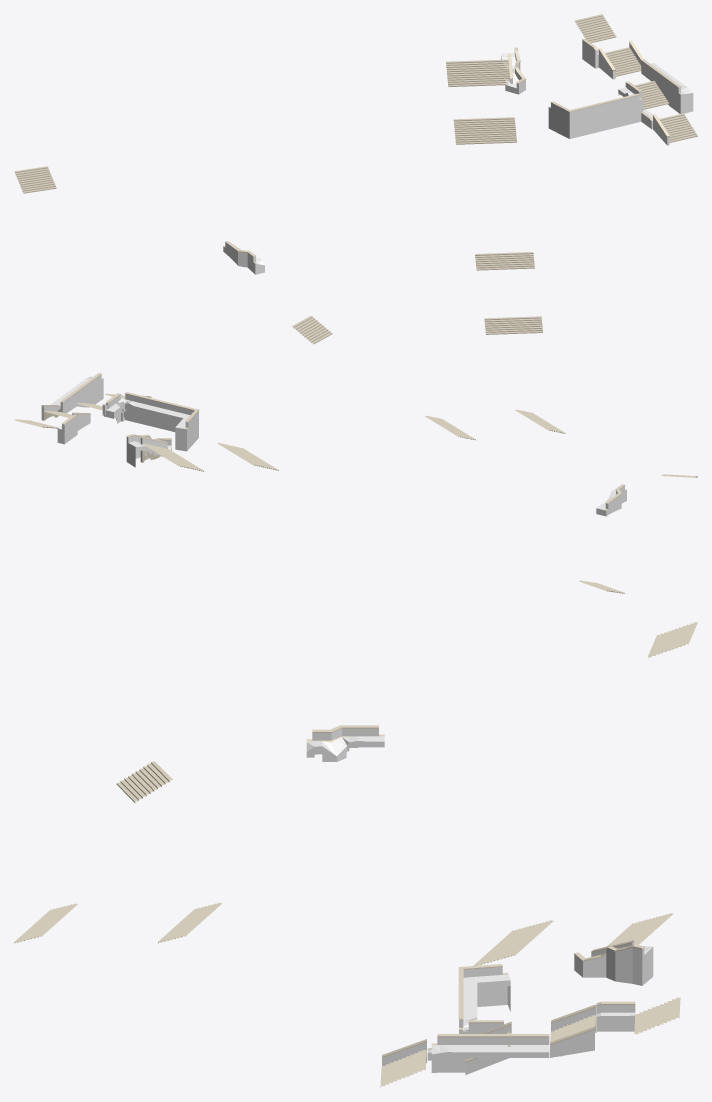
Rendered from SM_BM_BC_Works_1_2.glb.
3 renders of one model, top to bottom at view 1: azimuth 30°, elevation 25°; view 2: azimuth 150°, elevation 25°; view 3: azimuth 270°, elevation 25°, orthographic. The views are drawn at different scales.
Visible parts, largest first — view 1: SM_BM_BC_Works_1_2; view 2: SM_BM_BC_Works_1_2; view 3: SM_BM_BC_Works_1_2.
Boxes of the visible parts, left/top/right/bottom form: SM_BM_BC_Works_1_2: left=14, top=14, right=697, bottom=344; SM_BM_BC_Works_1_2: left=14, top=373, right=697, bottom=593; SM_BM_BC_Works_1_2: left=14, top=622, right=697, bottom=1087.
Bounding box in the file's own units: 98.69 × 13.89 × 65.68.
